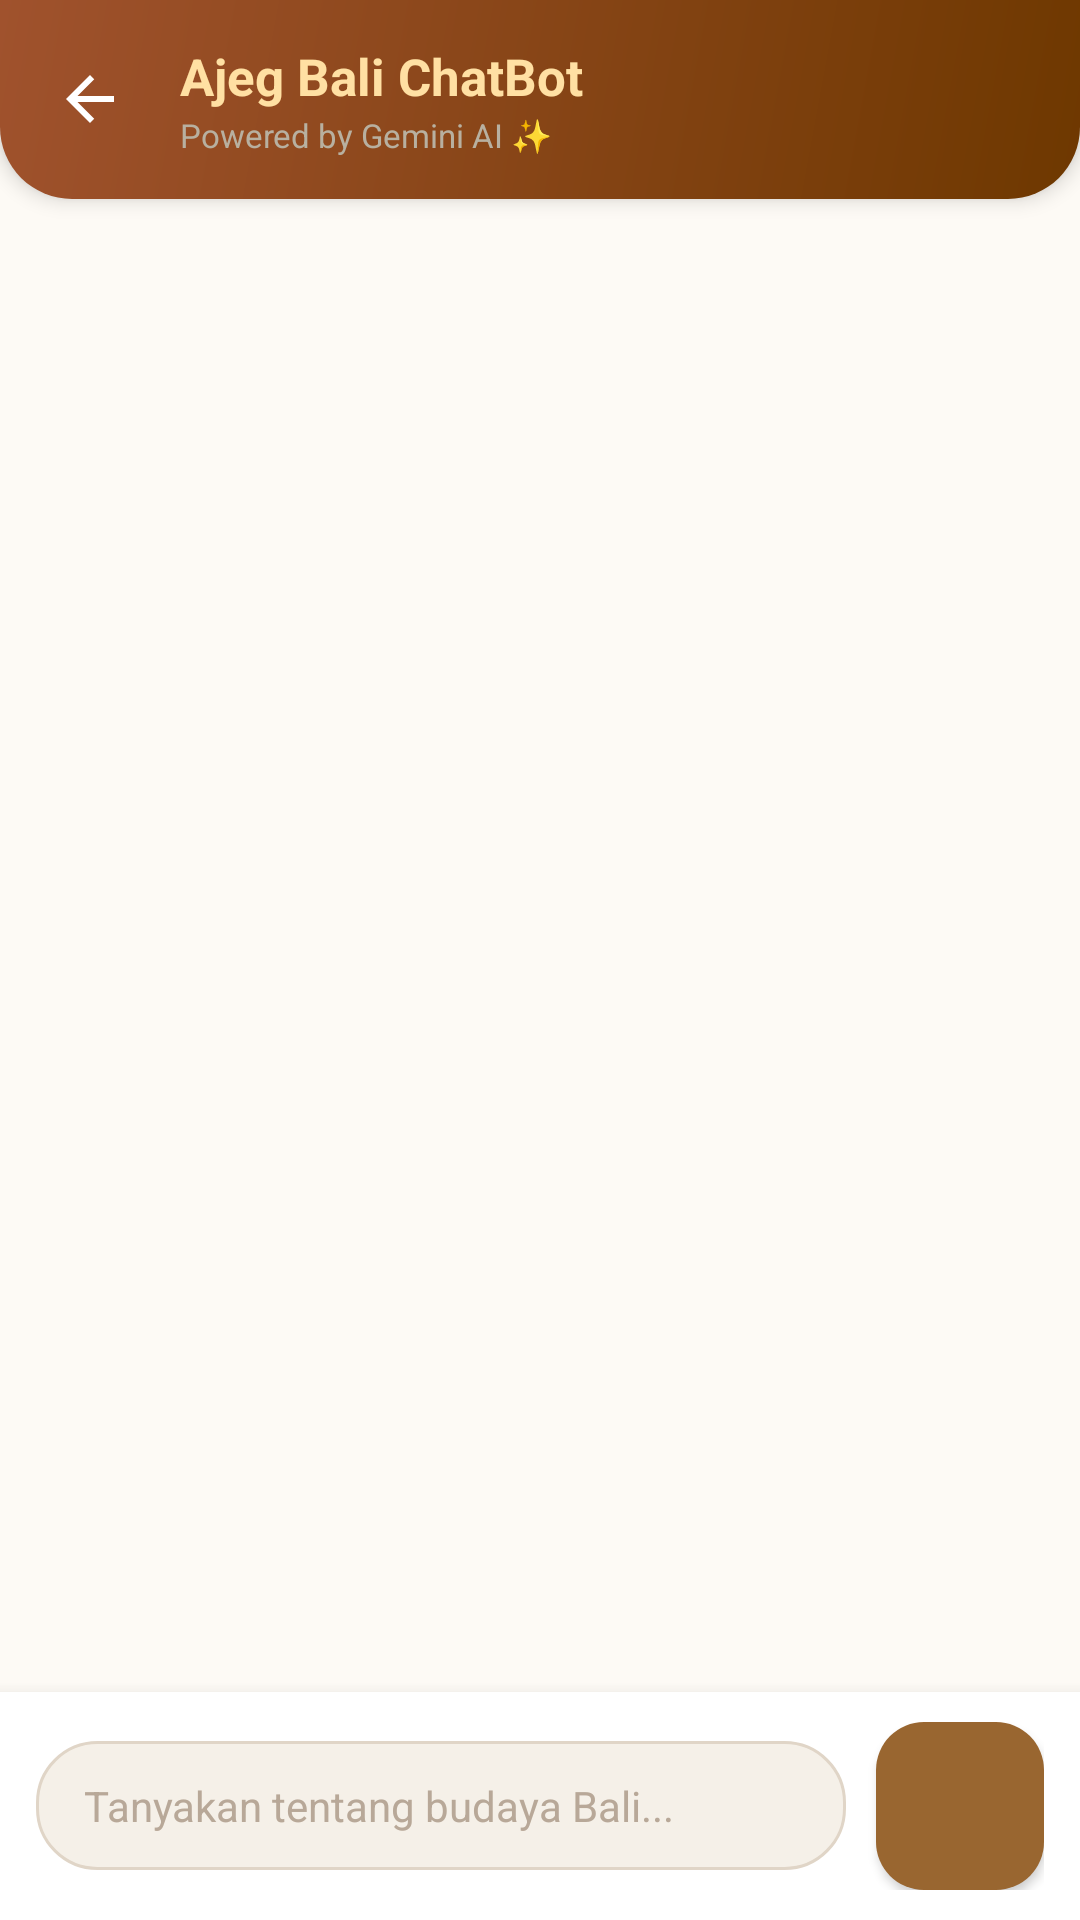

Icons on this 1080 x 1920 Android screen, each with its box as Rect(x1, y1, x2, y2):
Kembali: Rect(66, 75, 114, 123)
